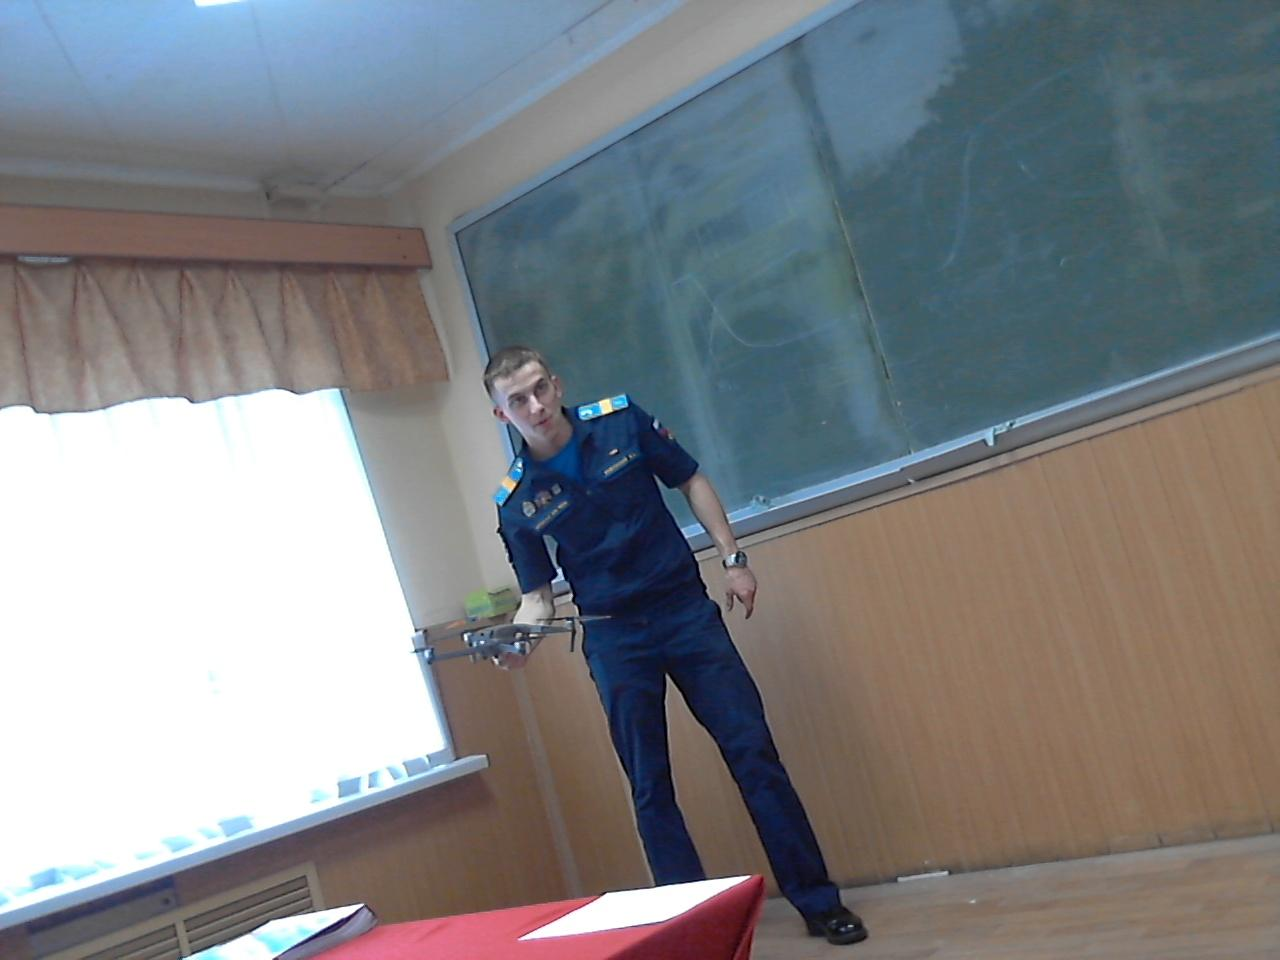drone: (400, 592, 623, 683)
